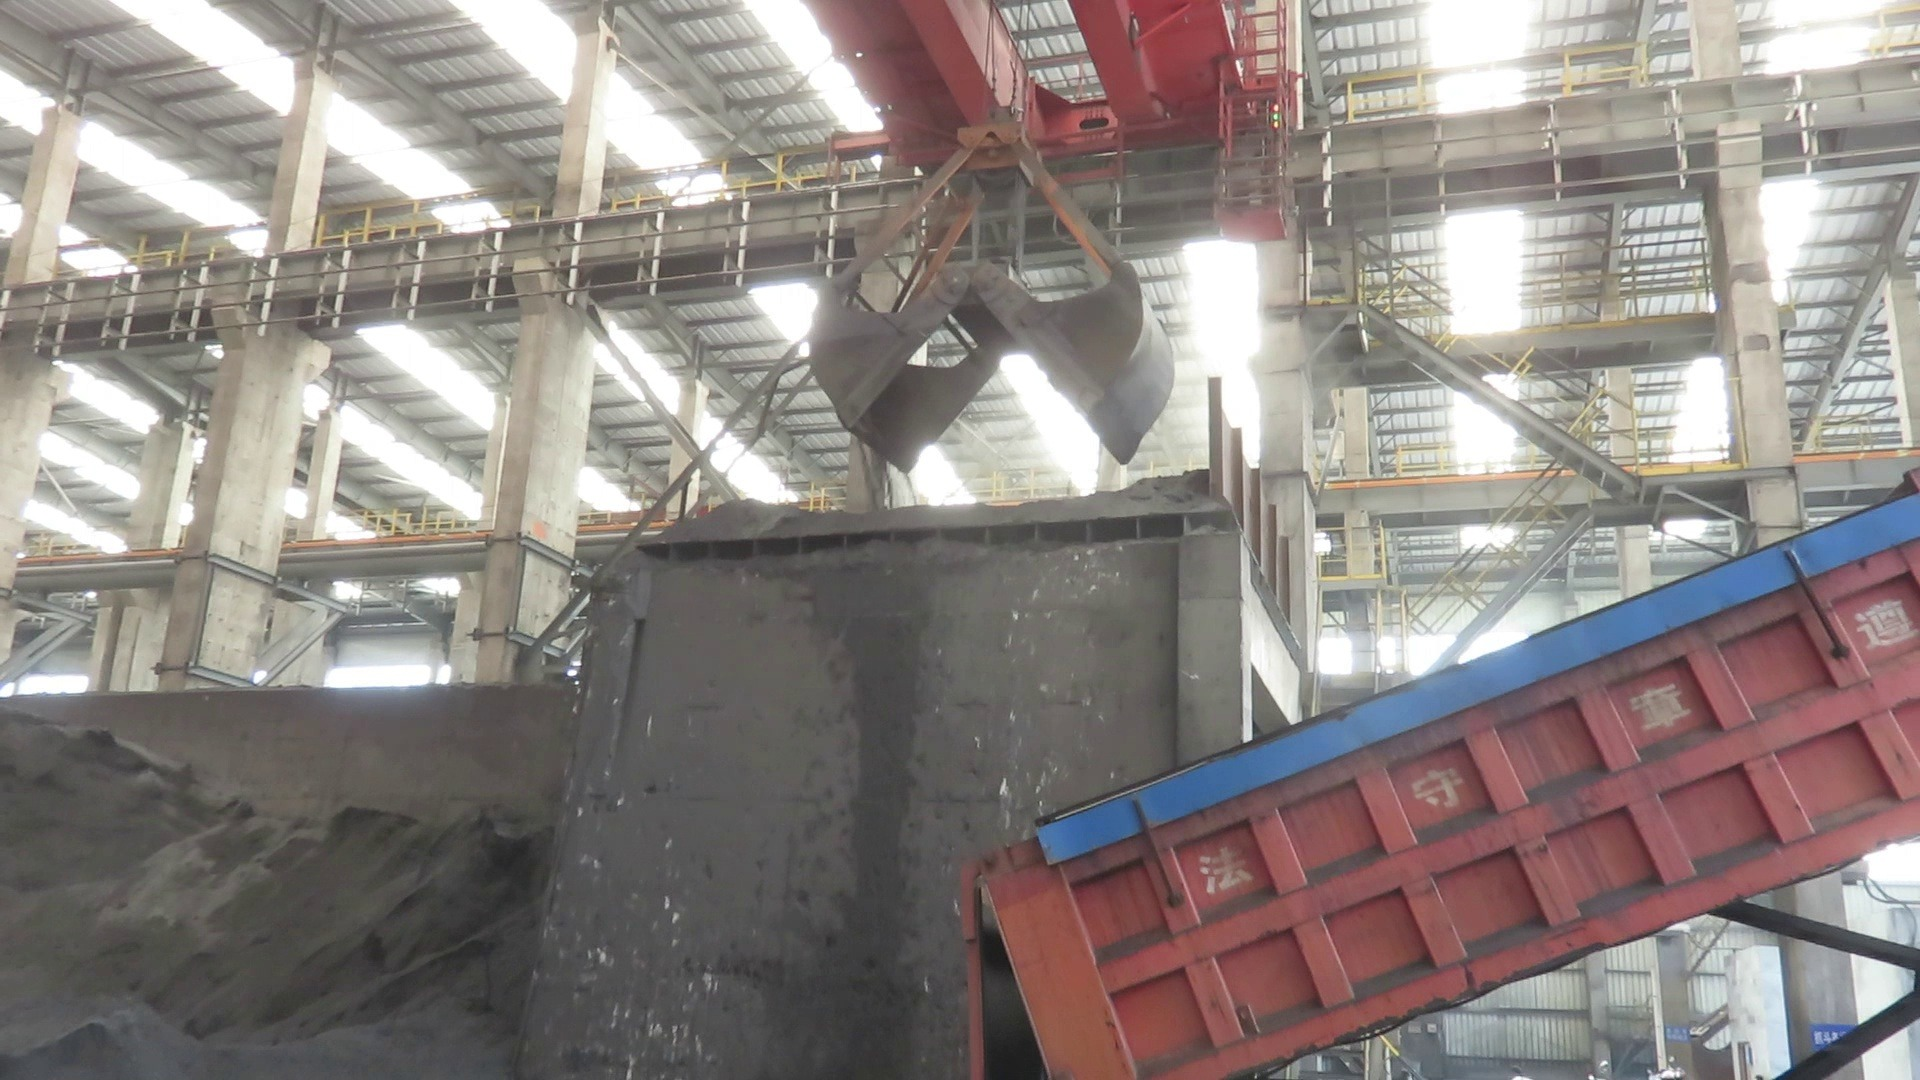grab: (804, 98, 1180, 477)
truck: (931, 516, 1920, 1080)
